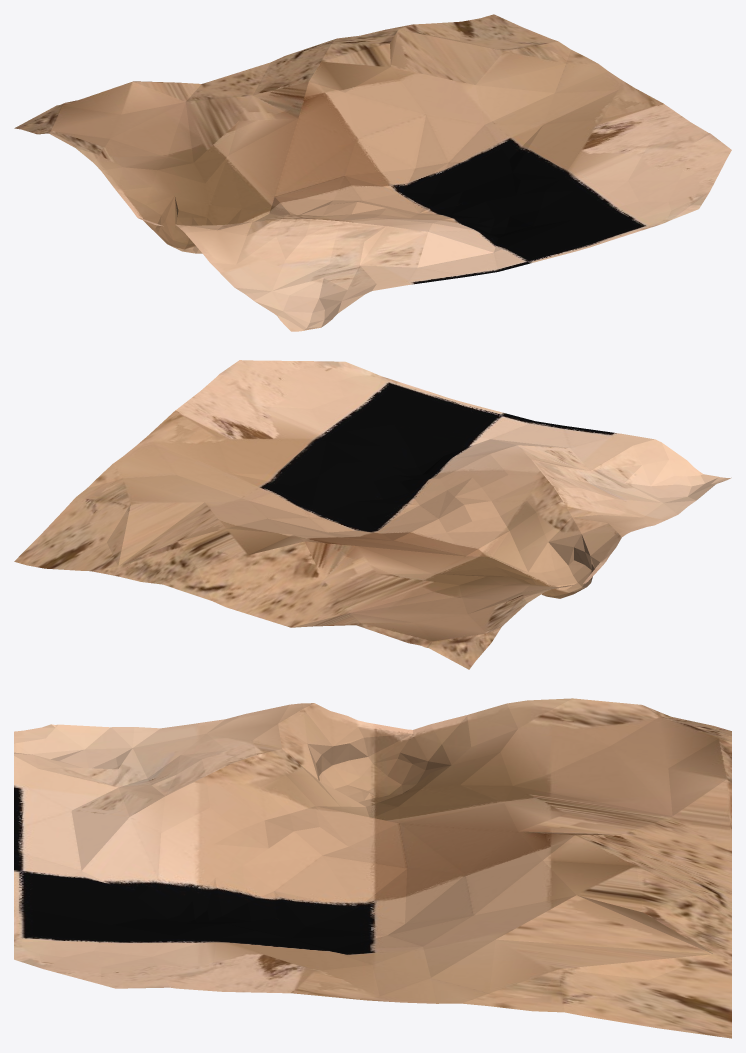
3 views of the same model, one above another, from view 1: azimuth 30°, elevation 25°; view 2: azimuth 150°, elevation 25°; view 3: azimuth 270°, elevation 25° (orthographic). The views are drawn at different scales.
Bounding box in the file's own units: 4.18 × 0.5437 × 4.18.
2 materials, 2 textured.
